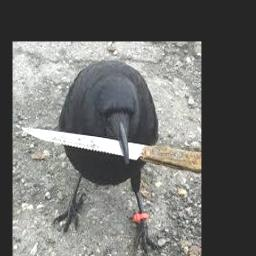Crow: (52, 59, 162, 255)
